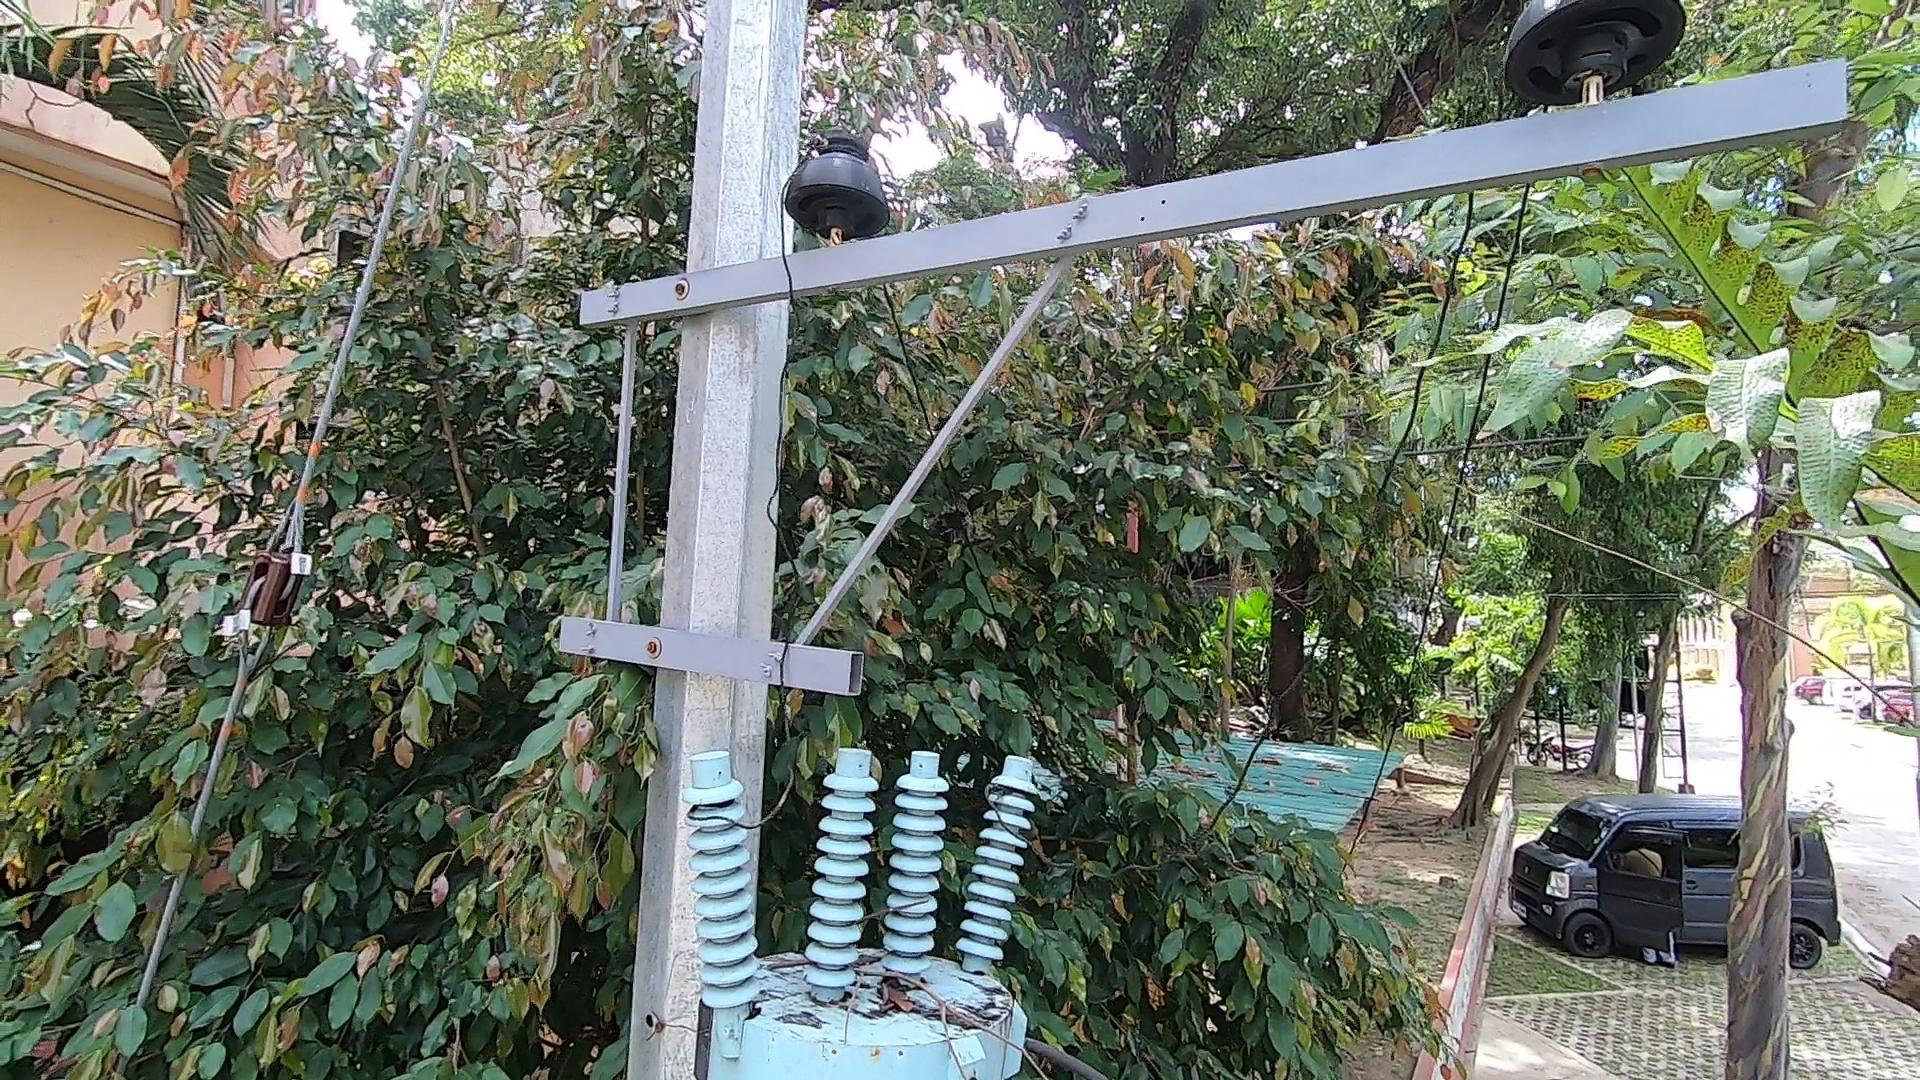leaf: (851, 971, 936, 1029)
tree branch: (764, 930, 1058, 1080)
